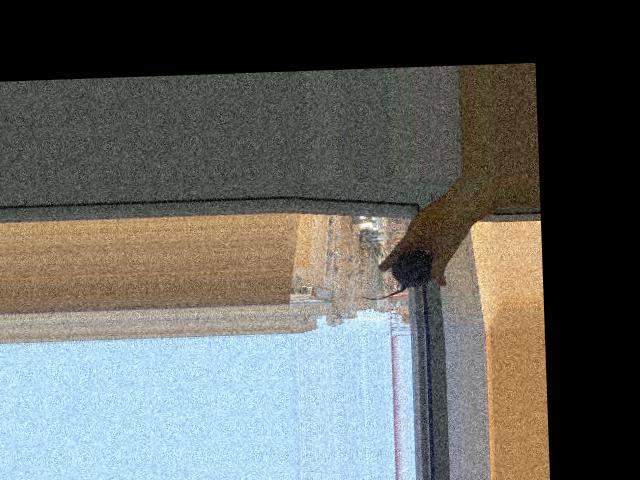beet: (358, 249, 432, 300)
